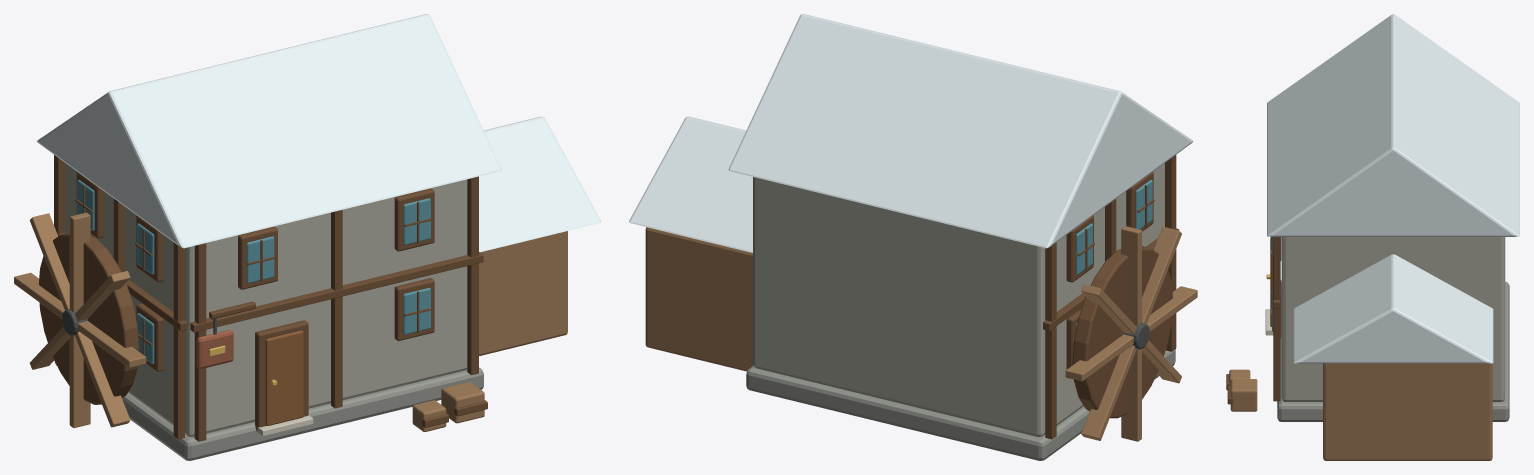
Rendered from snowy-mill-1.glb.
The picture shows the model from 3 angles, left to right: view 1: azimuth 30°, elevation 25°; view 2: azimuth 150°, elevation 25°; view 3: azimuth 270°, elevation 25°; orthographic projection. The views are drawn at different scales.
Visible parts, largest first — view 1: Snow, Fieldstone, Dark beams, Aged oak, Foundation stone, Blue glass, Door oak, Painted sign; view 2: Snow, Fieldstone, Aged oak, Dark beams, Foundation stone, Blue glass; view 3: Snow, Aged oak, Fieldstone, Foundation stone, Dark beams.
Part boxes in pixels (x1,y1,x2,y2): Snow: [37, 14, 600, 252]; Fieldstone: [65, 163, 467, 436]; Dark beams: [38, 155, 487, 441]; Aged oak: [14, 212, 567, 431]; Foundation stone: [54, 360, 483, 460]; Blue glass: [77, 179, 430, 364]; Door oak: [265, 330, 303, 425]; Painted sign: [196, 330, 233, 368]; Snow: [629, 14, 1193, 252]; Fieldstone: [753, 163, 1164, 436]; Aged oak: [645, 226, 1197, 441]; Dark beams: [1043, 155, 1179, 439]; Foundation stone: [746, 349, 1175, 460]; Blue glass: [1076, 179, 1152, 329]; Snow: [1267, 14, 1519, 363]; Aged oak: [1229, 363, 1492, 460]; Fieldstone: [1281, 237, 1505, 401]; Foundation stone: [1277, 281, 1509, 421]; Dark beams: [1226, 237, 1281, 404].
Bounding box in the file's own units: 6.46 × 4.42 × 4.07.
